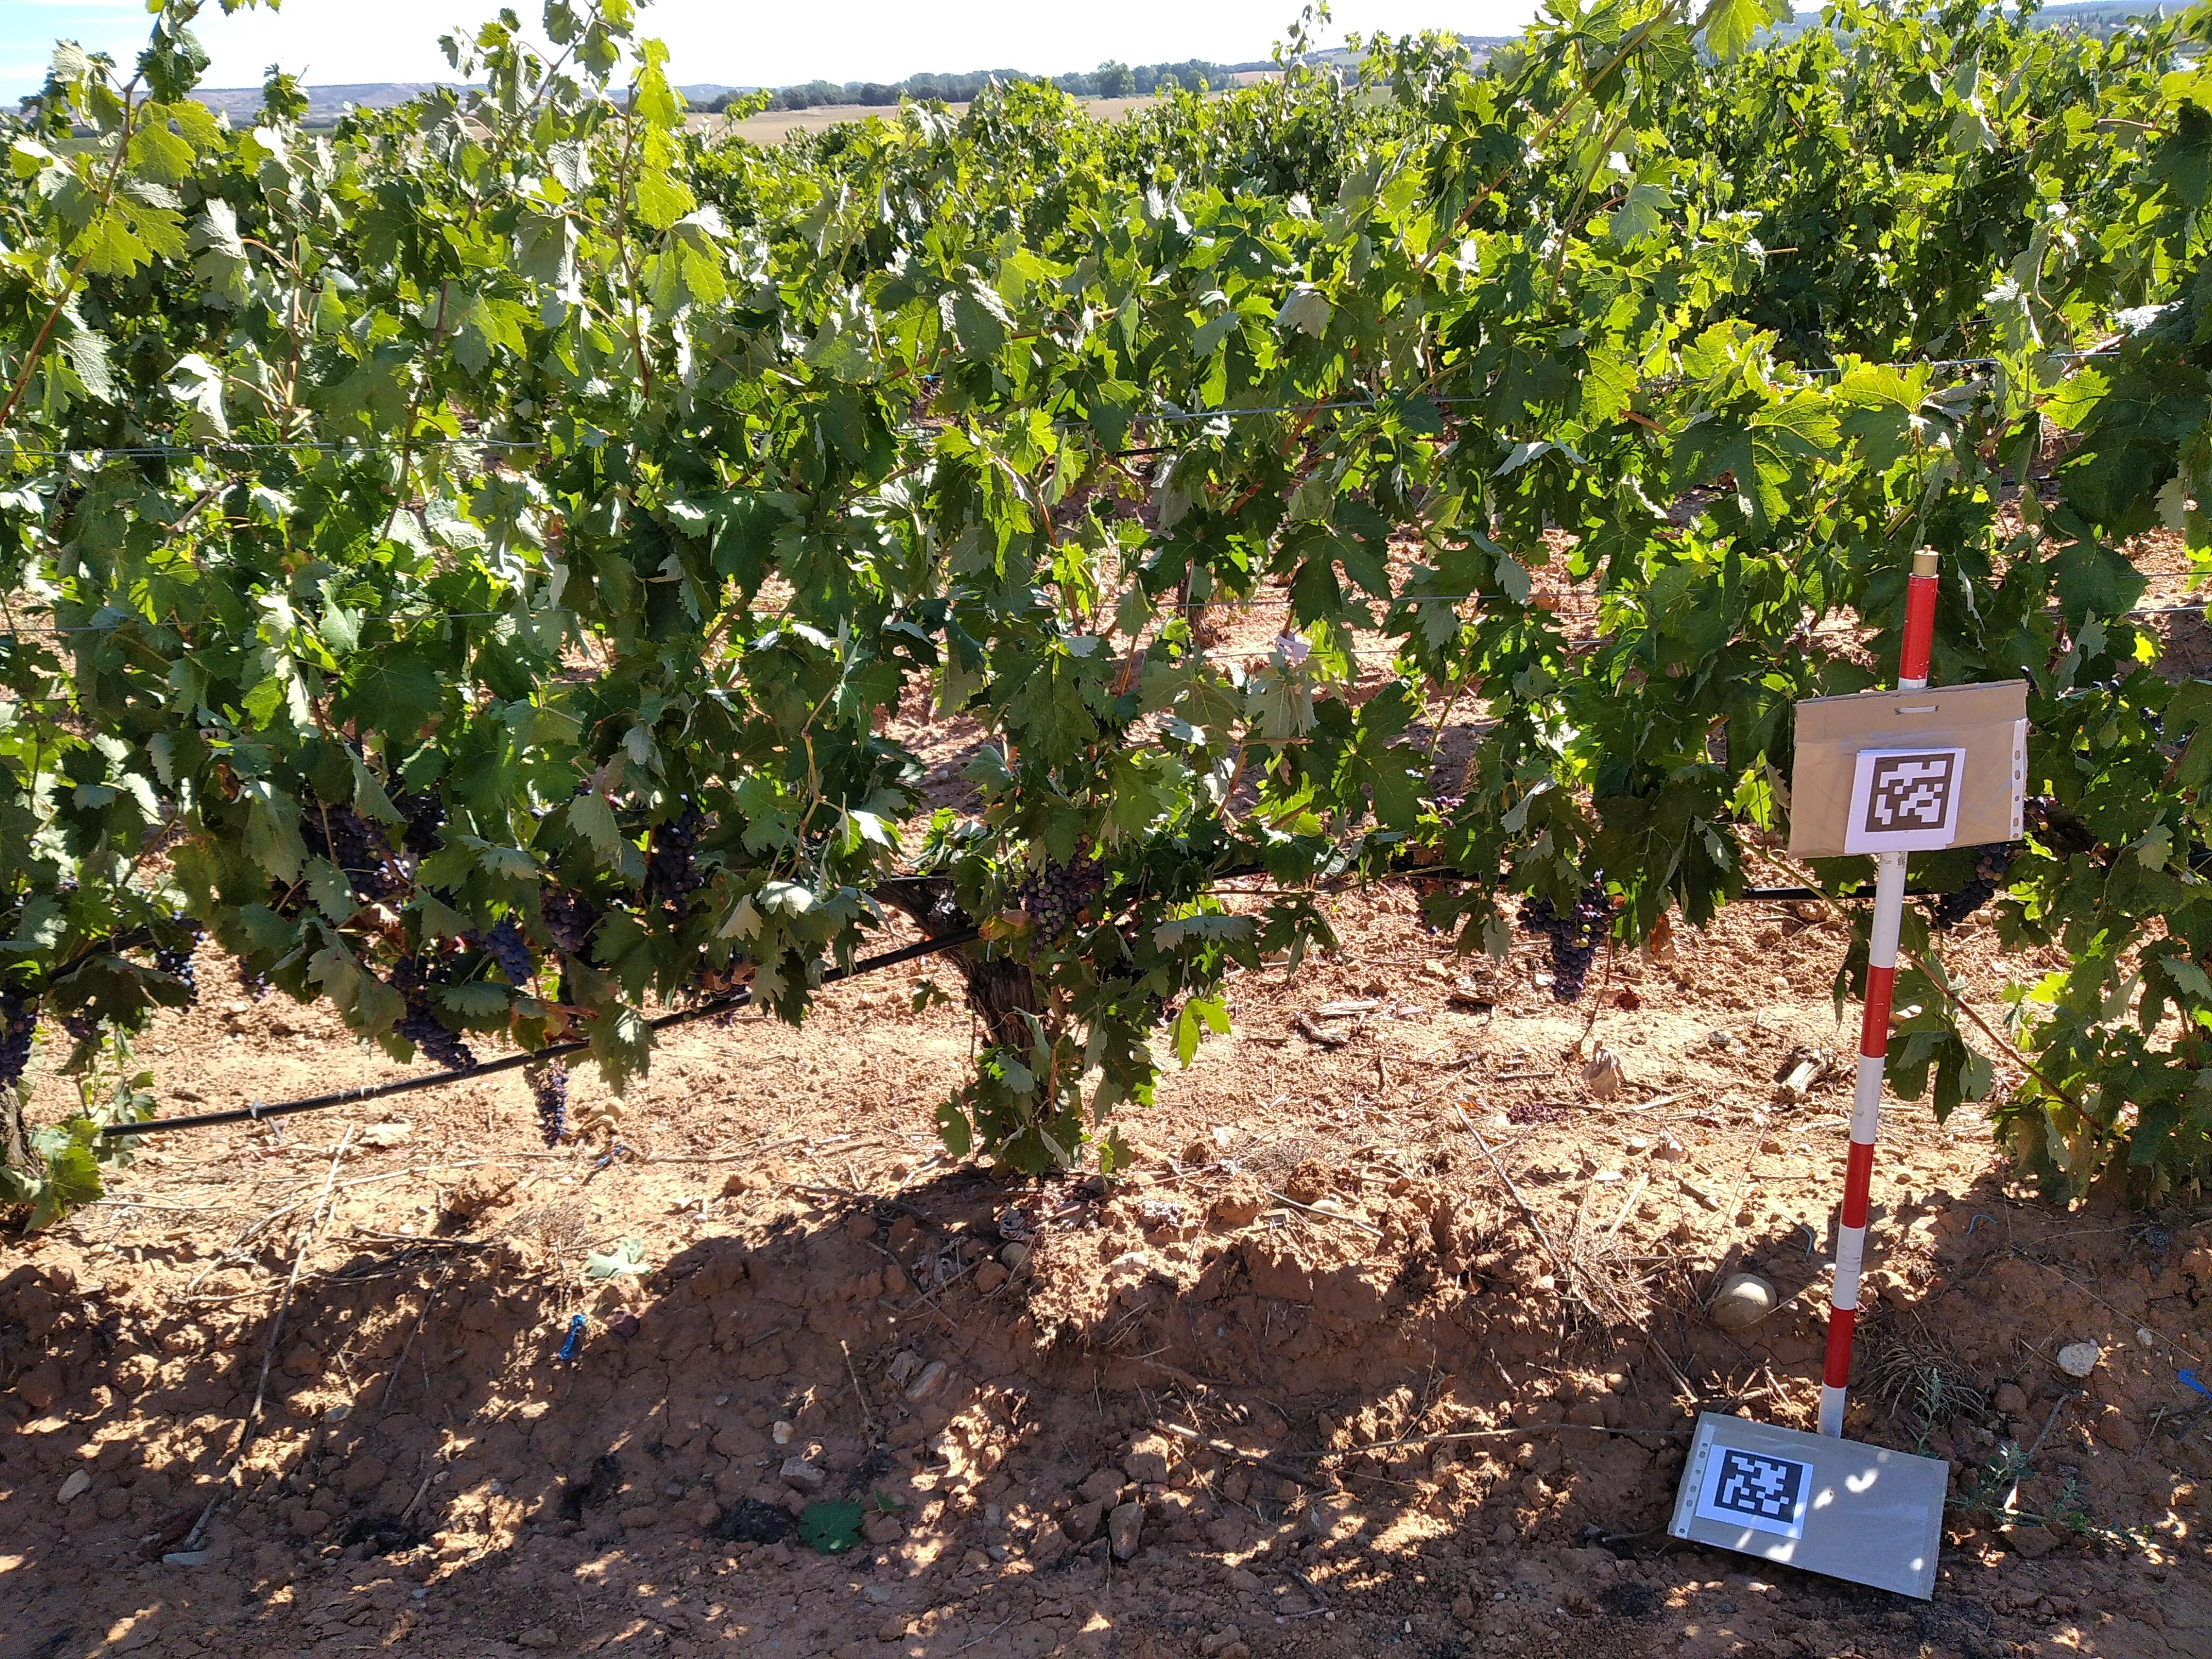0: (388, 957, 484, 1079), (1021, 835, 1106, 964), (303, 791, 399, 904), (1515, 890, 1609, 1006), (1930, 845, 2015, 929), (141, 911, 209, 1014), (650, 805, 714, 910), (0, 978, 44, 1087), (676, 958, 744, 1028), (465, 924, 536, 988), (533, 884, 589, 953), (404, 784, 453, 859), (1406, 877, 1432, 938), (54, 1009, 98, 1042), (2026, 789, 2059, 833)
qr: (1869, 755, 1952, 833)
